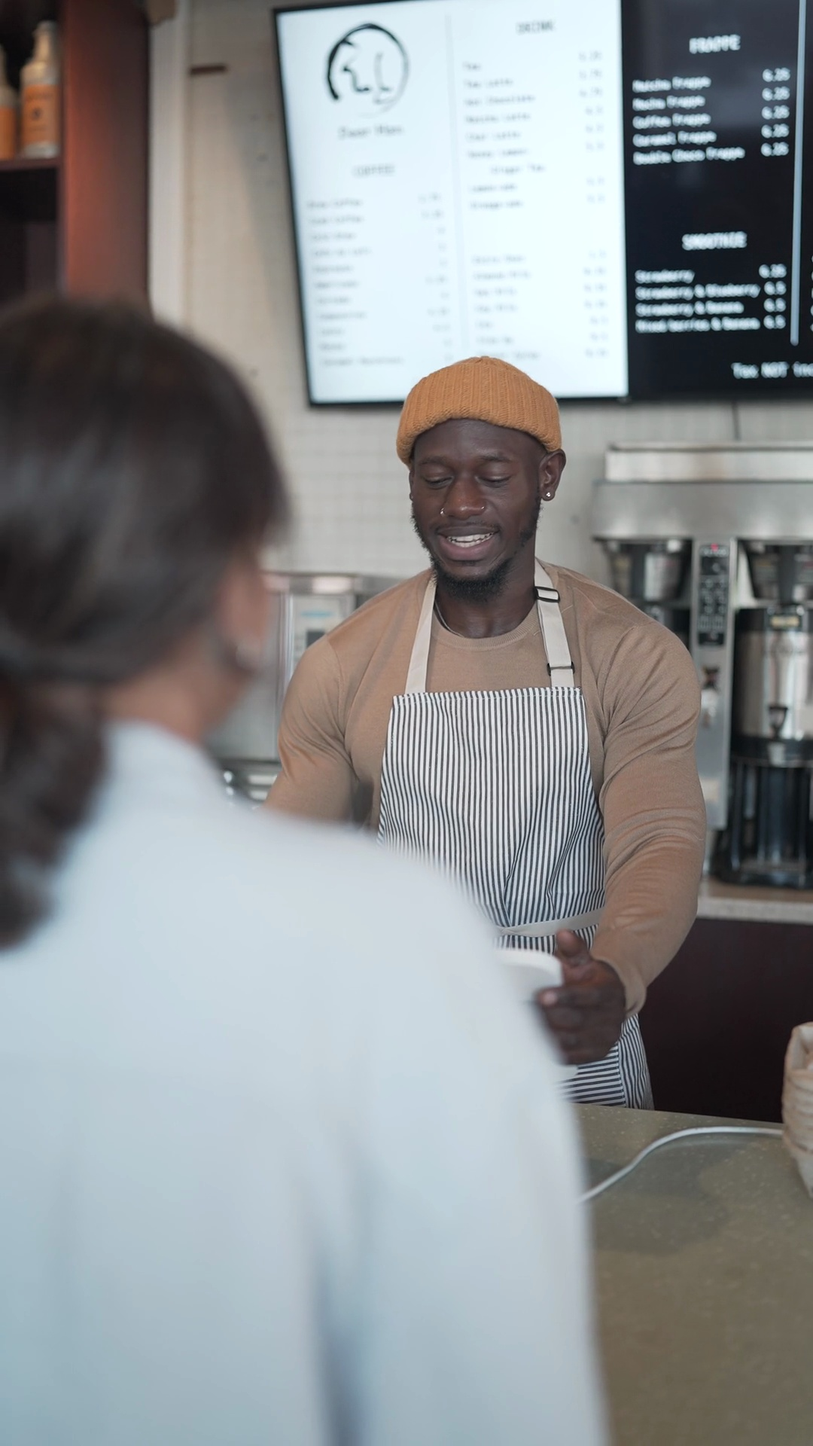dates_box: (256, 1, 694, 428), (523, 0, 813, 373)
watch: (295, 102, 813, 933), (360, 472, 813, 1380), (327, 669, 813, 1443), (0, 507, 633, 1038), (123, 505, 783, 967), (306, 298, 813, 874), (331, 451, 786, 907), (404, 431, 813, 938), (311, 304, 781, 674), (507, 889, 813, 1443)
